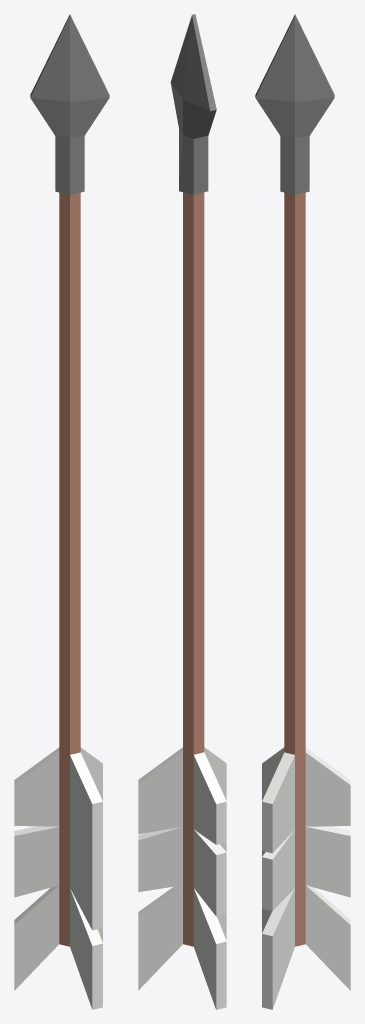
The model's file is Arrow.fbx.
3 views of the same model, side by side, from view 1: azimuth 90°, elevation 25°; view 2: azimuth 210°, elevation 25°; view 3: azimuth 270°, elevation 25° (orthographic).
Visible parts, largest first — view 1: Arrow; view 2: Arrow; view 3: Arrow.
Part boxes in pixels (x1,y1,x2,y2): Arrow: (14, 14, 109, 1009); Arrow: (138, 14, 226, 1009); Arrow: (255, 14, 350, 1009).
Size of the model in its own units: 6.68 by 70.15 by 6.21.
